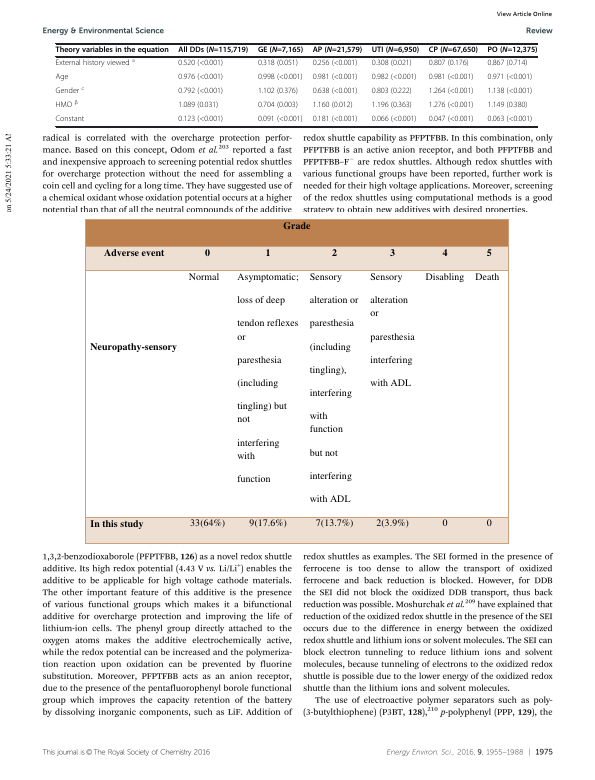bordered: (84, 218, 508, 543)
borderless: (54, 42, 537, 126)
cell: (236, 270, 300, 485), (309, 270, 359, 505), (369, 270, 416, 389), (89, 339, 178, 353), (55, 46, 170, 55), (54, 57, 136, 69), (103, 245, 165, 259), (89, 516, 145, 529), (177, 46, 249, 55), (425, 270, 465, 283), (248, 516, 288, 529), (315, 516, 354, 529), (189, 516, 226, 529), (177, 59, 224, 69), (177, 73, 224, 83), (486, 73, 533, 83), (177, 87, 224, 97), (486, 87, 533, 97), (177, 115, 224, 125), (486, 115, 533, 125), (486, 46, 538, 55), (312, 59, 358, 69), (257, 73, 303, 83), (312, 73, 358, 83), (371, 73, 417, 83), (428, 73, 474, 83), (312, 87, 358, 97), (428, 87, 474, 97), (428, 101, 474, 111), (257, 115, 303, 125), (312, 115, 358, 125), (371, 115, 417, 125), (428, 115, 474, 125), (312, 46, 363, 55), (428, 46, 479, 55), (375, 516, 410, 529), (371, 46, 420, 55), (257, 46, 304, 55), (257, 59, 299, 69), (371, 59, 413, 69), (428, 59, 470, 69), (486, 59, 528, 69), (257, 87, 299, 97), (371, 87, 413, 97), (177, 101, 219, 111), (257, 101, 299, 111), (371, 101, 413, 111), (486, 101, 528, 111), (188, 270, 220, 283), (312, 101, 353, 111), (282, 218, 311, 232), (55, 85, 85, 97), (474, 270, 500, 283), (55, 115, 85, 125), (55, 99, 79, 111), (55, 73, 69, 83), (204, 245, 211, 259), (265, 245, 272, 259), (331, 245, 338, 259), (389, 245, 396, 259), (441, 245, 448, 259), (486, 245, 493, 259), (441, 516, 448, 529), (486, 516, 493, 529)
